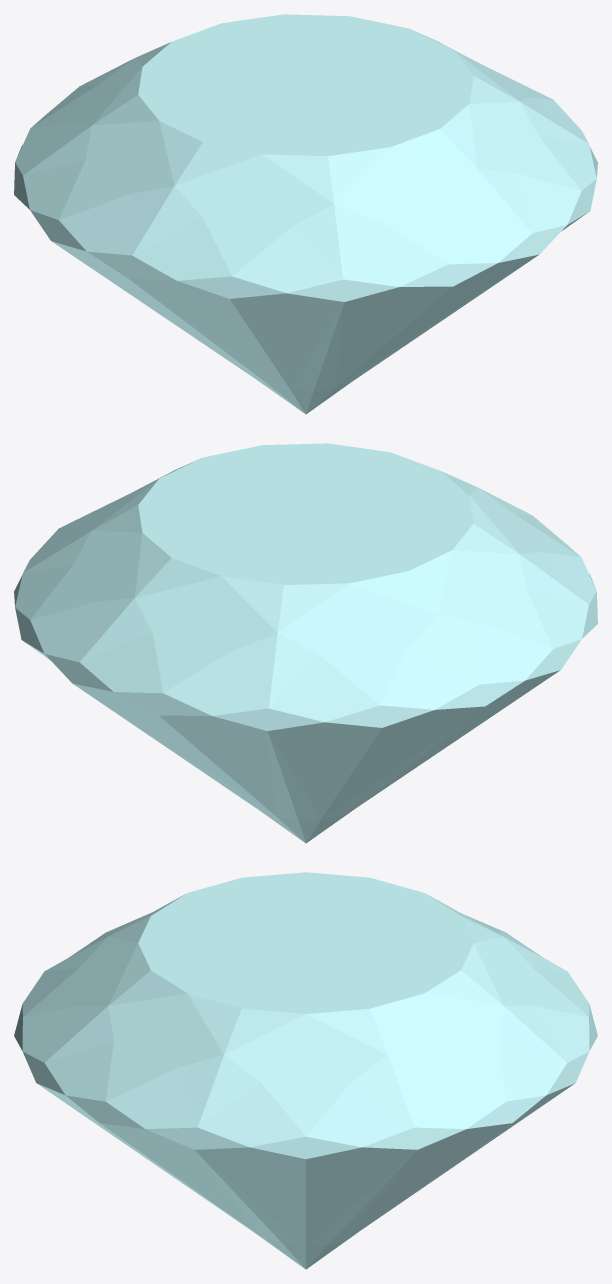
The model's file is diamond.glb.
3 renders of one model, top to bottom at view 1: azimuth 30°, elevation 25°; view 2: azimuth 150°, elevation 25°; view 3: azimuth 270°, elevation 25°, orthographic.
Visible parts, largest first — view 1: pCone1; view 2: pCone1; view 3: pCone1.
Boxes of the visible parts, x1,y1,x2,y2 form: pCone1: (14,14,597,414); pCone1: (14,443,597,843); pCone1: (14,872,597,1269).
Size of the model in its own units: 0.02 by 0.0123 by 0.02.
